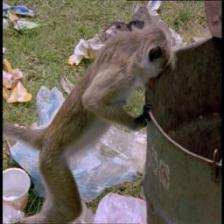monkey: (131, 18, 173, 94)
